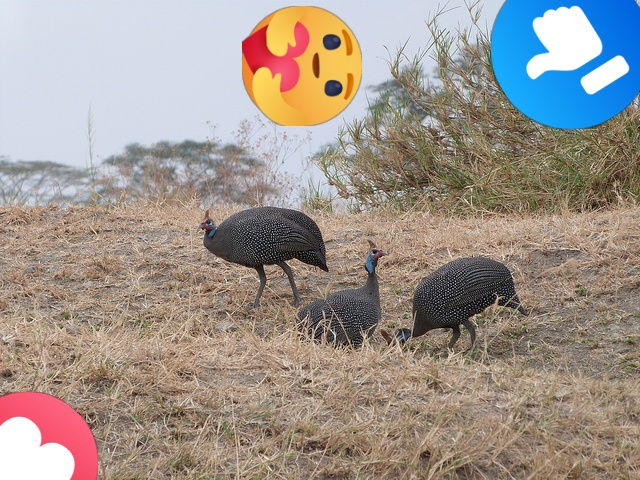care: (242, 6, 362, 126)
like: (491, 0, 640, 129)
love: (0, 392, 98, 480)
